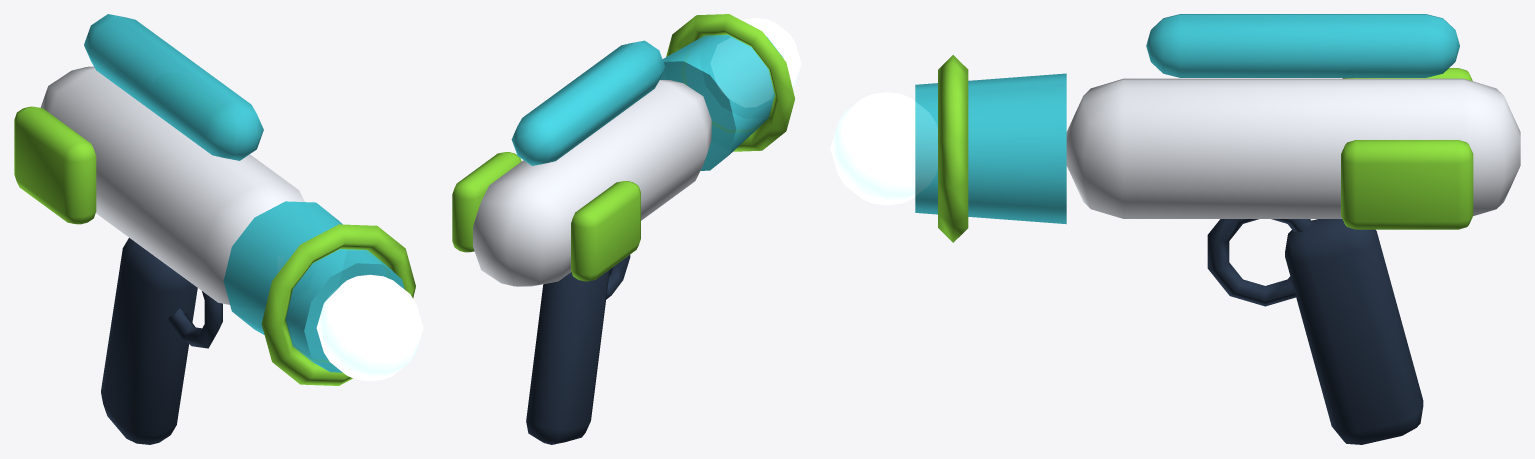
Rendered from MiningLaser.fbx.
3 views of the same model, side by side, from view 1: azimuth 30°, elevation 25°; view 2: azimuth 150°, elevation 25°; view 3: azimuth 270°, elevation 25° (orthographic). The views are drawn at different scales.
Visible parts, largest first — view 1: MiningLaser; view 2: MiningLaser; view 3: MiningLaser.
Boxes of the visible parts, x1,y1,x2,y2 form: MiningLaser: (14,14,423,444); MiningLaser: (452,14,801,444); MiningLaser: (830,14,1520,444).
Bounding box in the file's own units: 0.11 × 0.2487 × 0.365.
